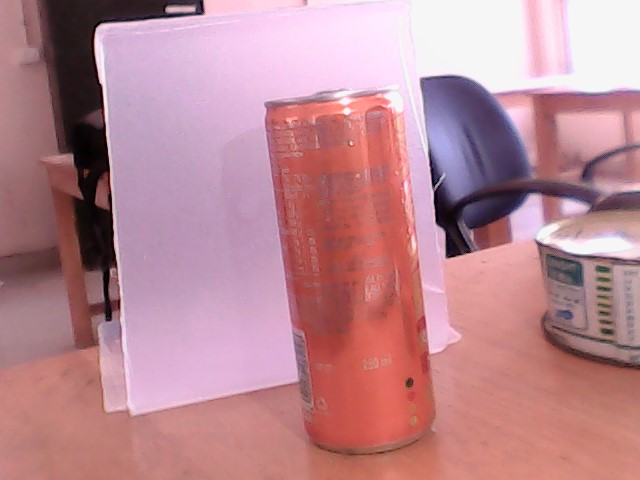Metal: (250, 97, 467, 480)
